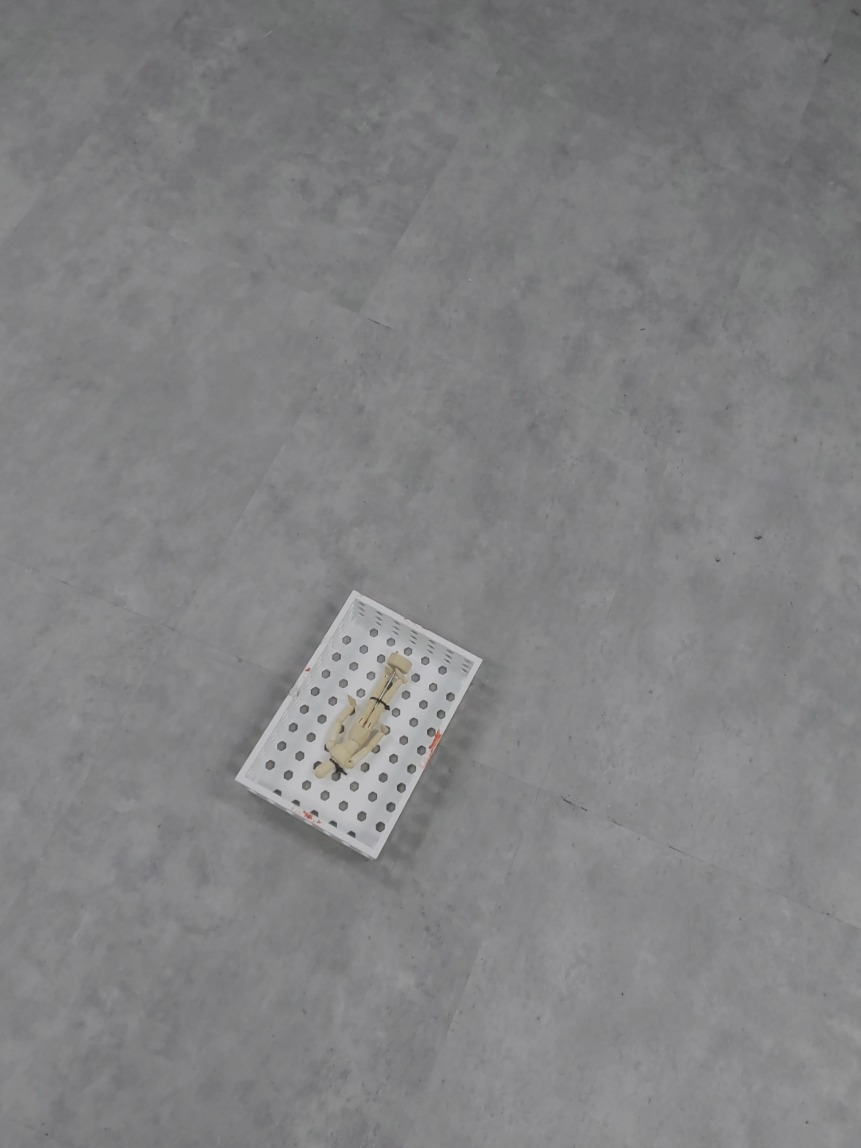basket: (223, 584, 492, 876)
mannequin: (310, 644, 416, 791)
